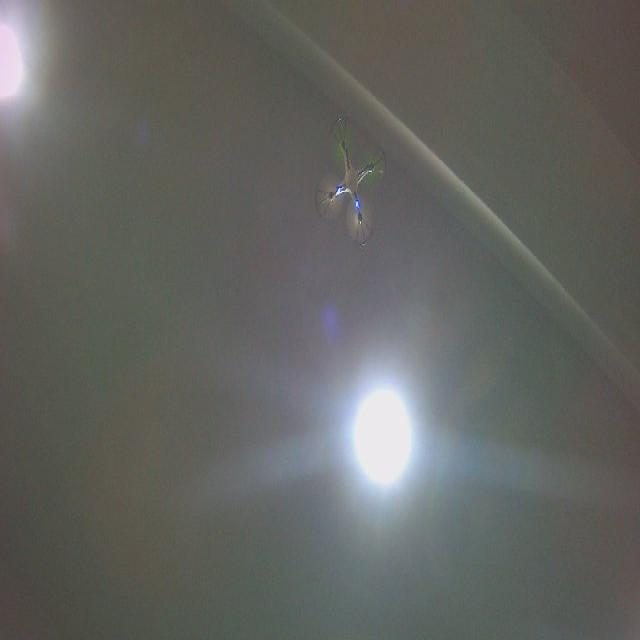drone: (311, 112, 390, 251)
